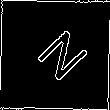N_SW: (23, 23, 87, 87)
